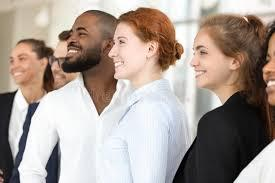No_Goggles: (69, 26, 98, 42)
No_Helmet: (193, 9, 267, 44), (114, 5, 175, 35)
